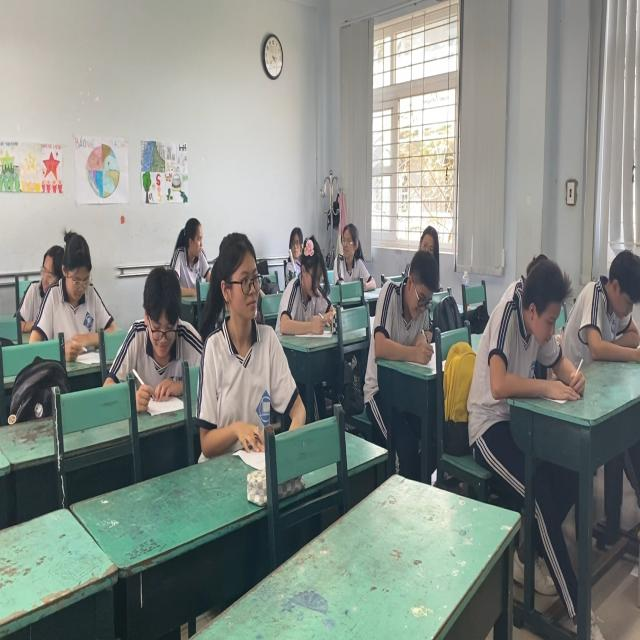cheating: (168, 209, 215, 285), (333, 218, 376, 289)
not_cheating: (203, 223, 289, 423), (494, 249, 585, 410), (118, 262, 202, 394), (37, 218, 107, 344), (577, 226, 640, 365), (367, 248, 442, 354), (292, 236, 334, 326), (286, 222, 304, 262)
